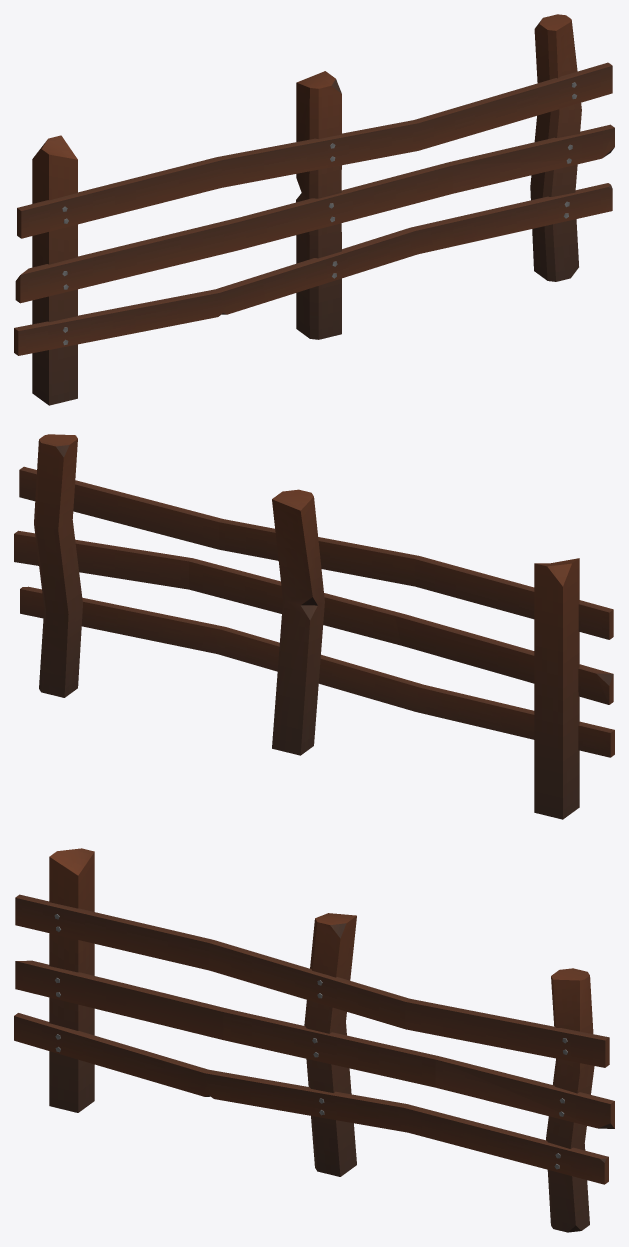
The model's file is cerca_madeira.glb.
The picture shows the model from 3 angles, top to bottom: view 1: azimuth 30°, elevation 25°; view 2: azimuth 150°, elevation 25°; view 3: azimuth 330°, elevation 25°; orthographic projection.
Parts seen in each view (by area): view 1: SWFModA; view 2: SWFModA; view 3: SWFModA.
Boxes of the visible parts, x1=… form: SWFModA: x1=14, y1=14, x2=614, y2=405; SWFModA: x1=14, y1=434, x2=614, y2=819; SWFModA: x1=14, y1=848, x2=614, y2=1232.
Size of the model in its own units: 4.53 by 1.82 by 0.3343.
1 material, 1 textured.
